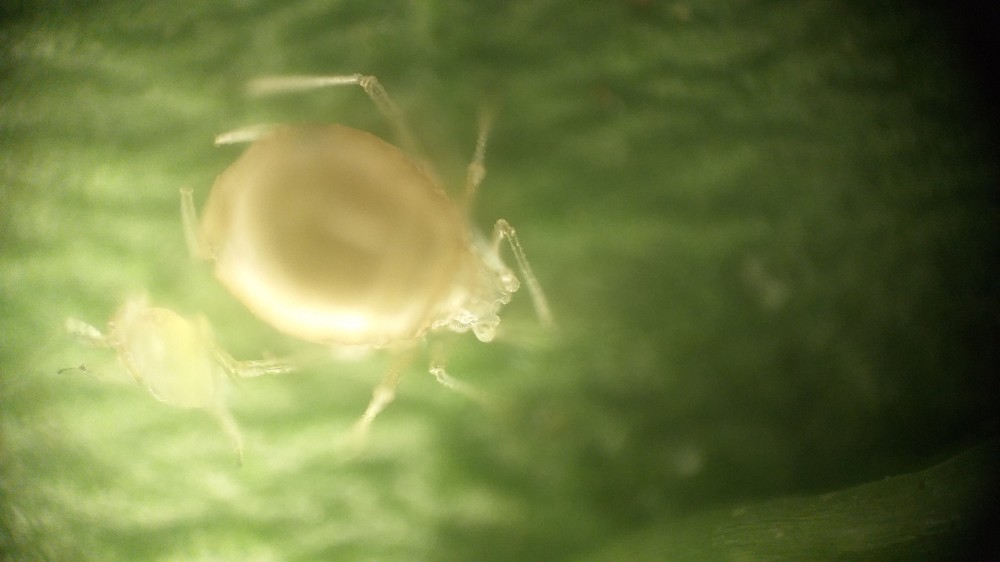Pulgon: (168, 68, 586, 464)
